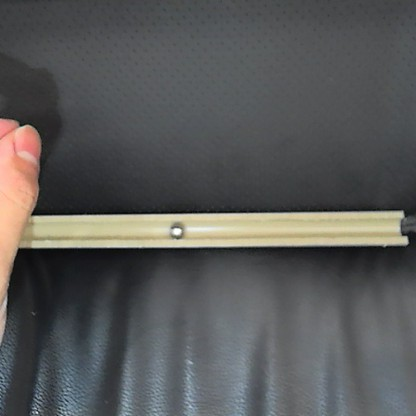ironball: (166, 220, 188, 239)
